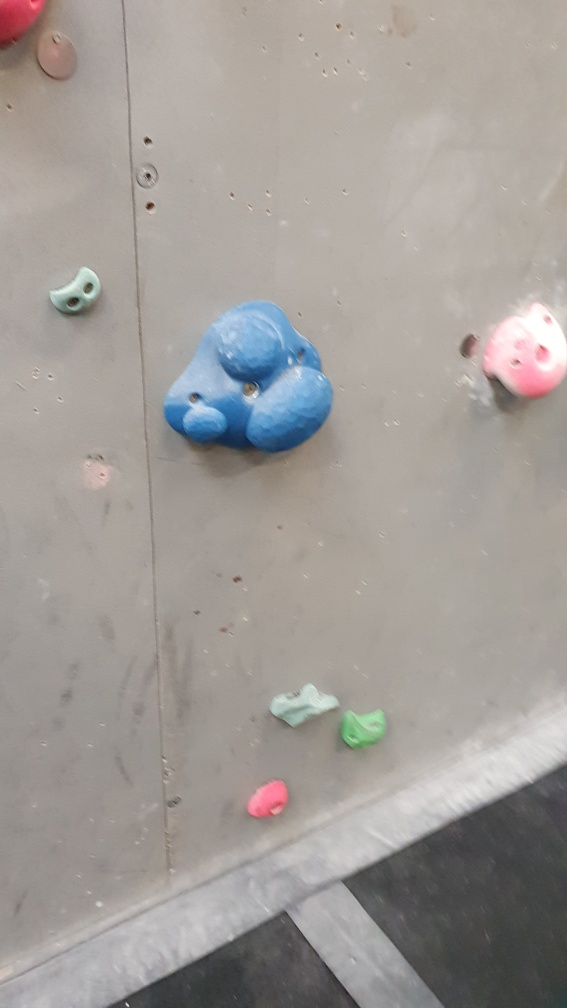Sloper: (159, 294, 336, 460)
